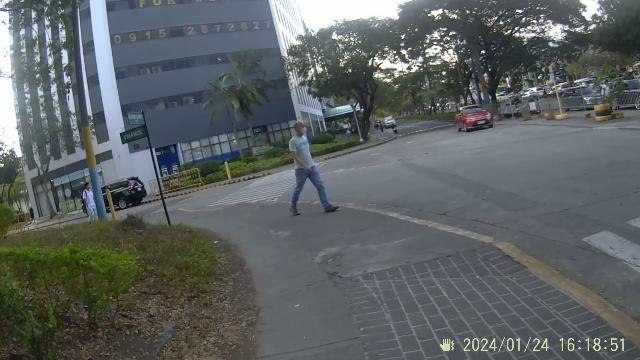street_sign: (117, 107, 169, 204)
